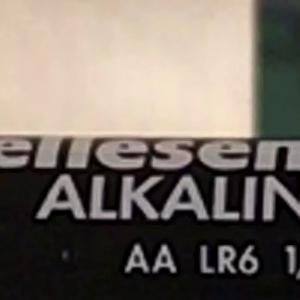keyword: (27, 167, 126, 228)
